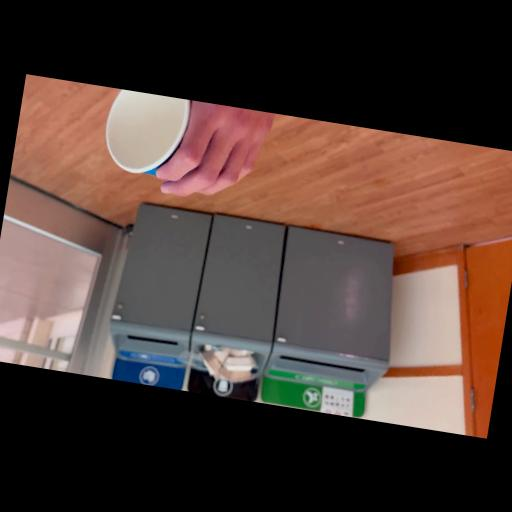lp_paper_cup: (97, 87, 192, 181)
small_plastic_container: (190, 340, 264, 402)
